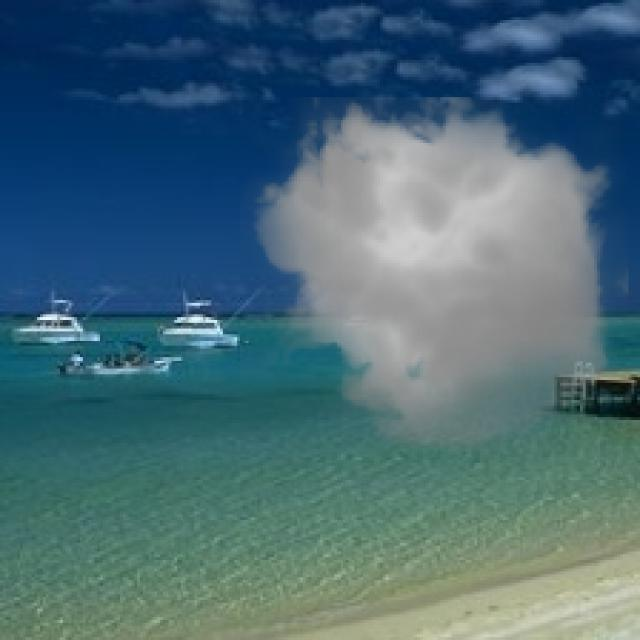Smoke: (240, 80, 629, 463)
